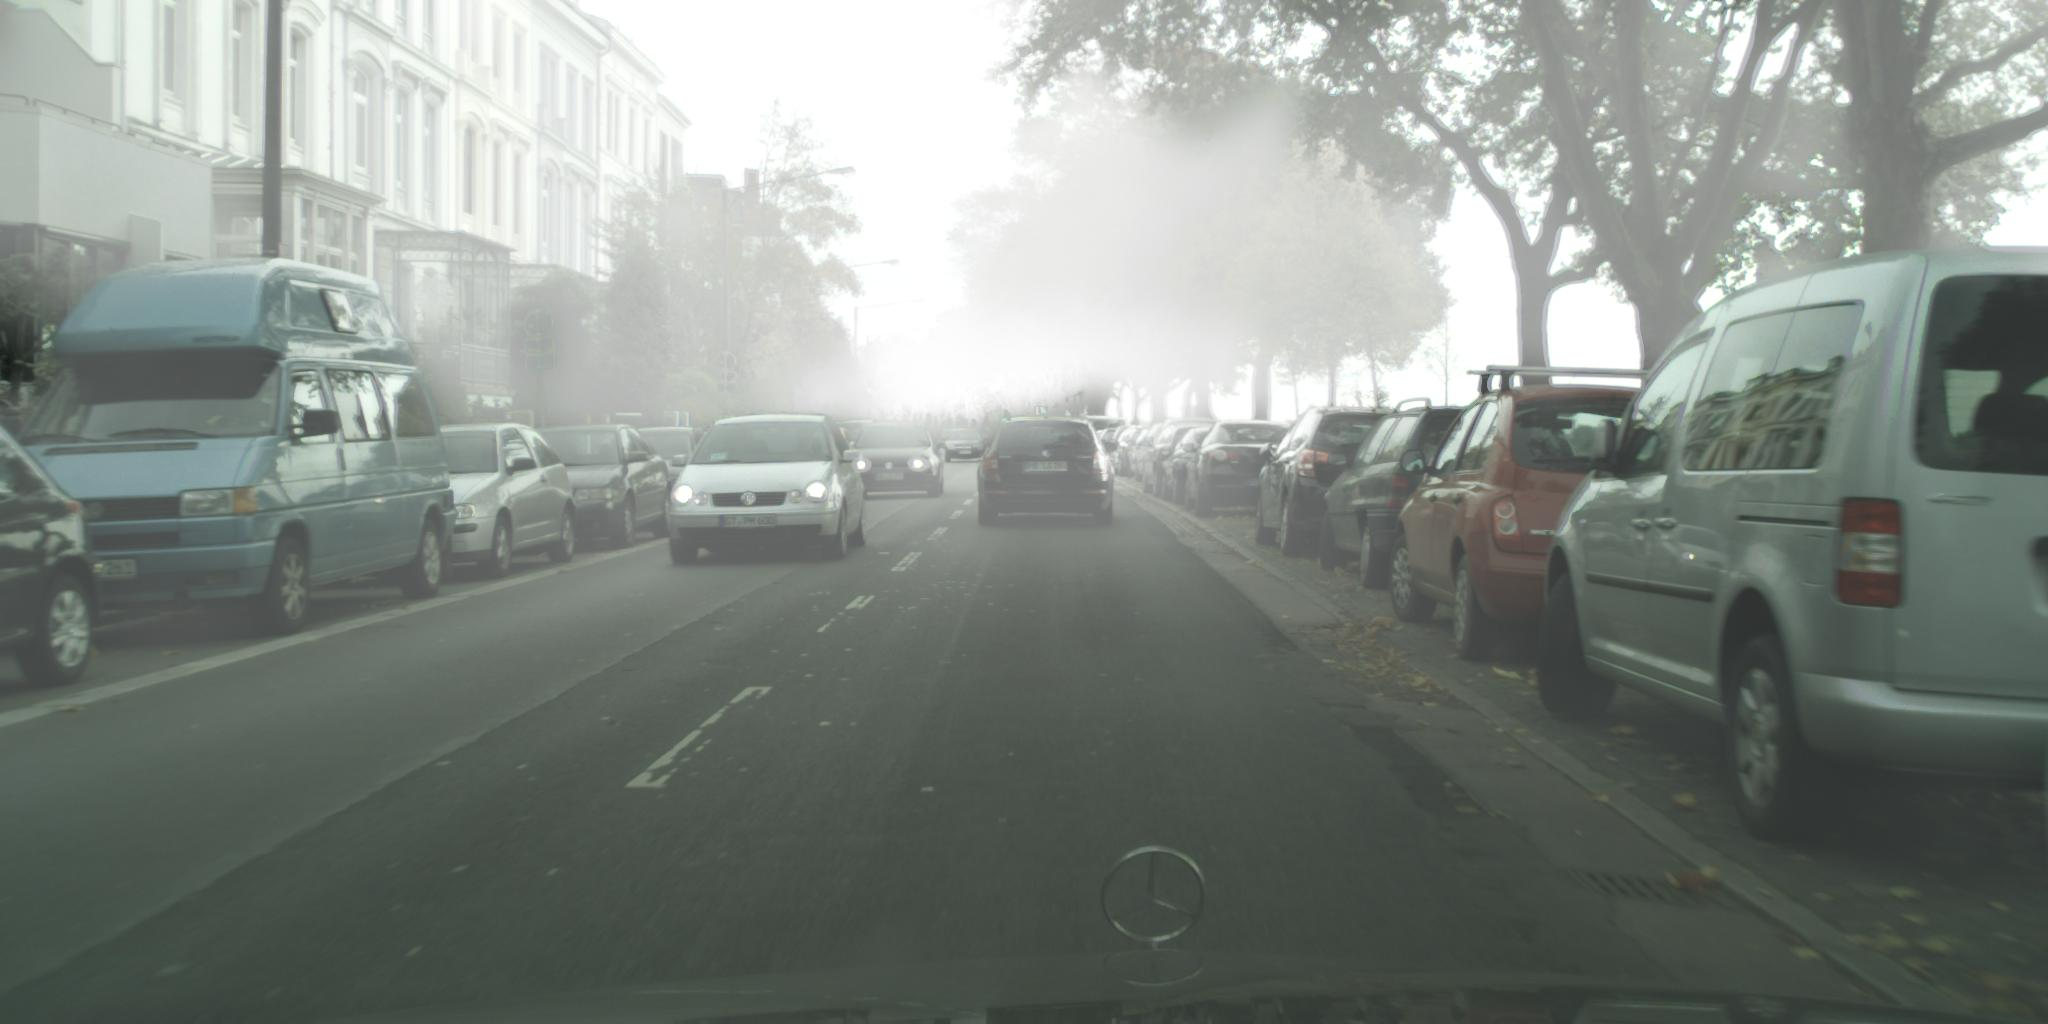car: (1529, 246, 2048, 852), (8, 257, 460, 635), (1392, 366, 1659, 665), (1317, 398, 1486, 590), (670, 414, 869, 566), (410, 422, 580, 580), (1, 417, 97, 690), (1256, 408, 1409, 559), (526, 423, 674, 550), (973, 415, 1119, 530), (1183, 421, 1304, 519), (849, 422, 948, 502), (626, 428, 714, 508), (1160, 427, 1224, 504), (1134, 423, 1183, 485), (825, 421, 879, 465)
